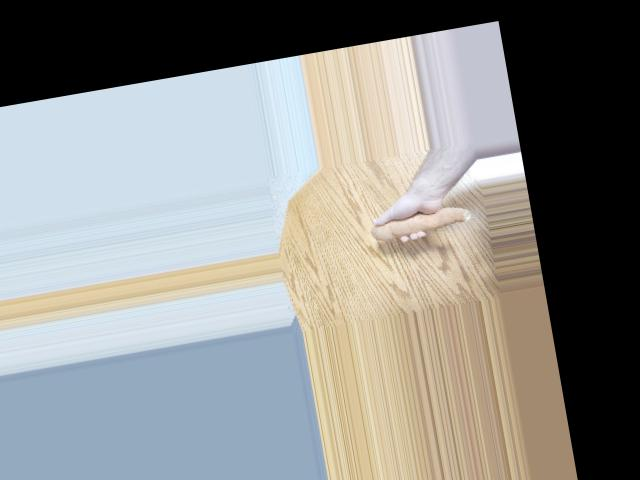sweet_potato: (360, 197, 474, 248)
